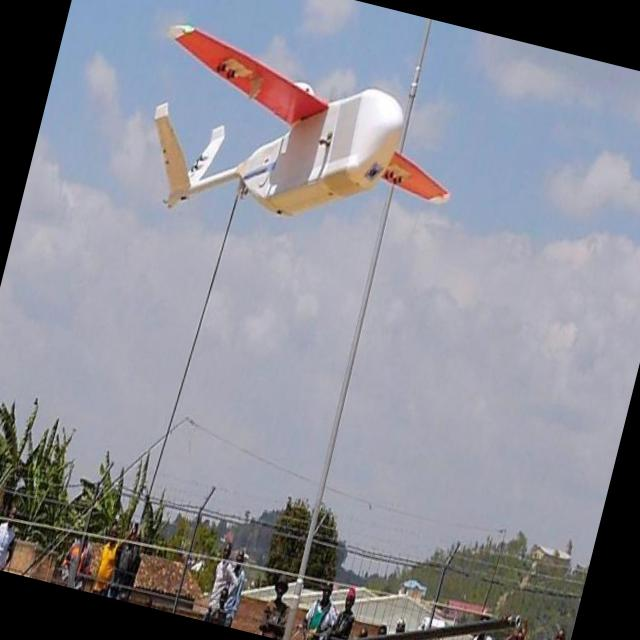UAV: (120, 10, 438, 232)
